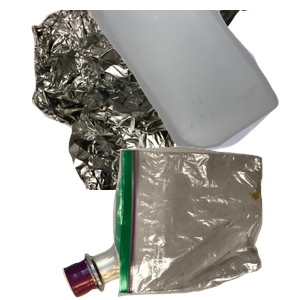glass: (60, 180, 300, 300)
metal: (29, 10, 269, 190)
plastic: (84, 10, 300, 157)
trash: (110, 144, 300, 300)
